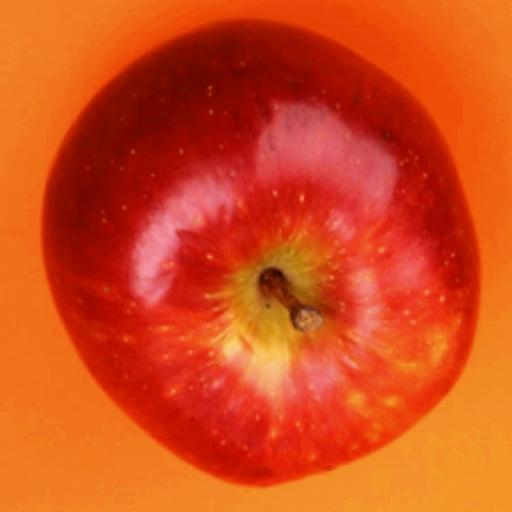apple: (42, 21, 477, 484)
